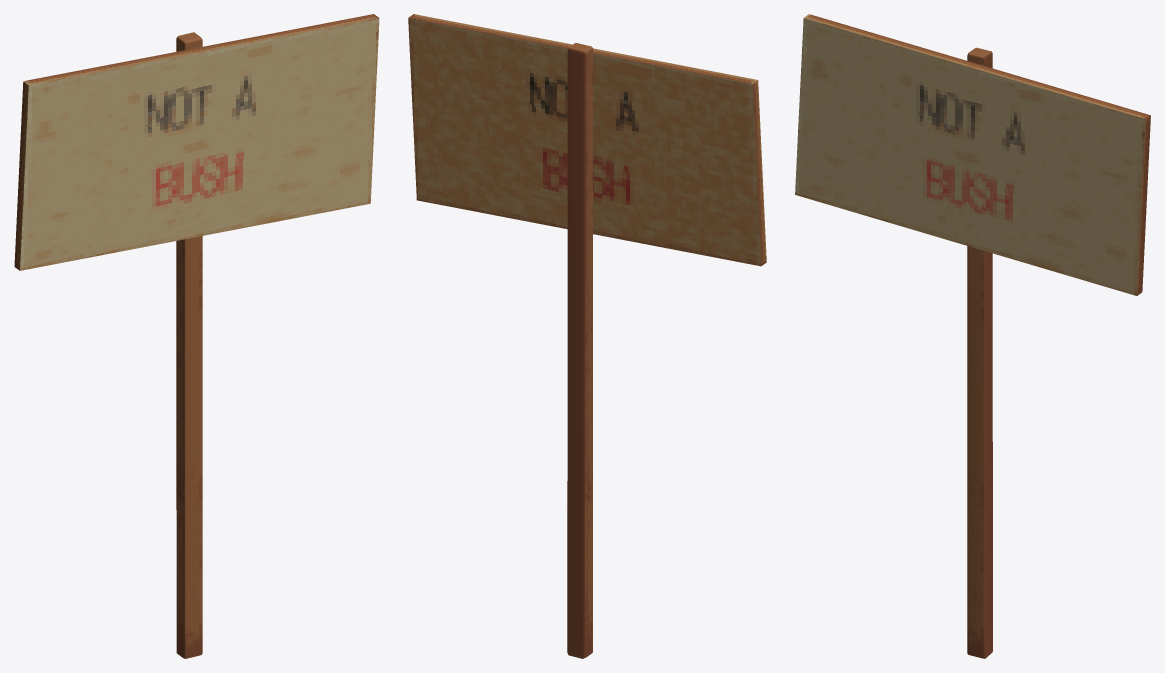
The model's file is bush_sign.glb.
3 views of the same model, side by side, from view 1: azimuth 30°, elevation 25°; view 2: azimuth 150°, elevation 25°; view 3: azimuth 330°, elevation 25° (orthographic). The views are drawn at different scales.
Visible parts, largest first — view 1: mesh; view 2: mesh; view 3: mesh.
Part boxes in pixels (<box>): mesh: <box>14,14,379,658</box>; mesh: <box>408,14,766,658</box>; mesh: <box>795,14,1150,658</box>.
Size of the model in its own units: 0.4505 by 0.741 by 0.032.
1 material, 1 textured.
